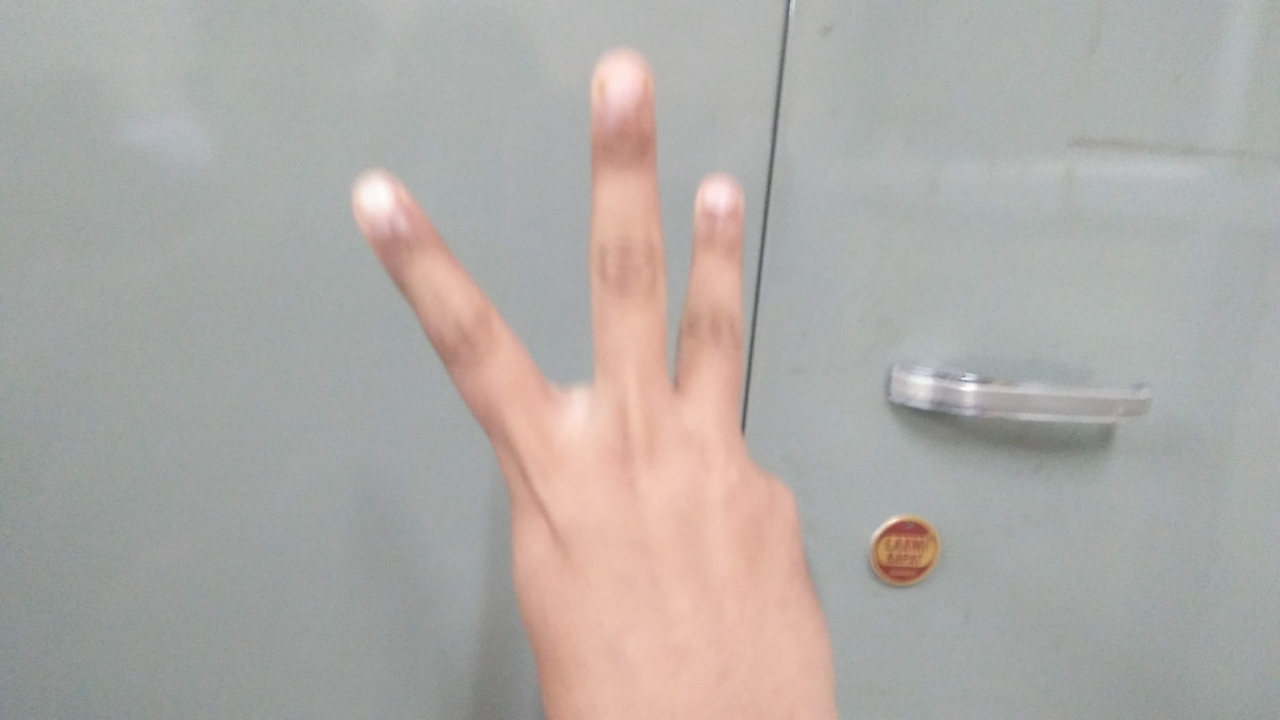fingertip: (336, 164, 414, 224), (688, 168, 750, 226), (588, 48, 652, 104)
